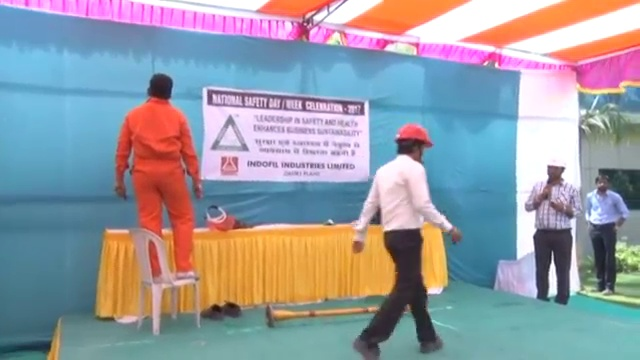helmet: (394, 120, 435, 147), (545, 157, 569, 170)
helmet_off: (146, 72, 175, 102), (594, 173, 610, 193)
helmet_on: (394, 120, 436, 166), (544, 157, 569, 188)
person: (350, 120, 464, 360), (111, 70, 203, 281), (521, 155, 581, 303), (584, 171, 630, 296)
